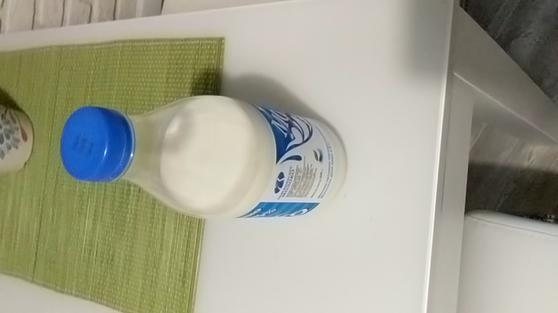milk: (45, 83, 359, 245)
